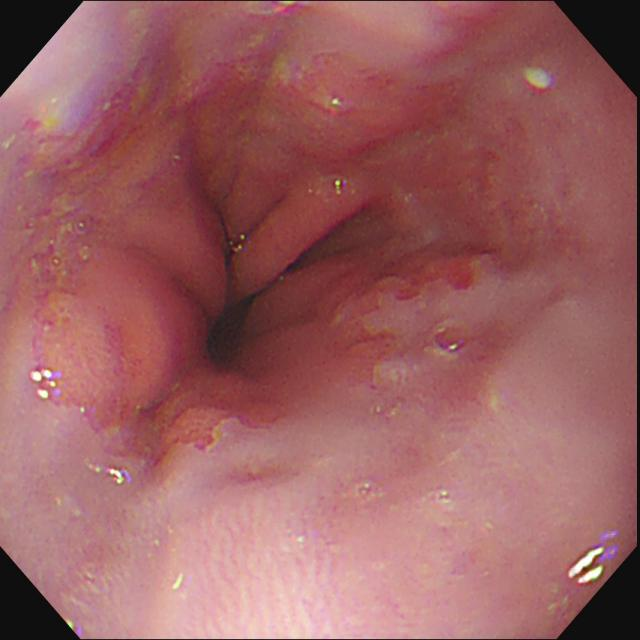D: (58, 96, 163, 164), (153, 403, 258, 470)
E: (209, 297, 256, 361)
I: (62, 74, 501, 446)
U: (567, 547, 605, 587), (31, 370, 64, 402), (526, 66, 553, 92), (106, 467, 131, 486)
